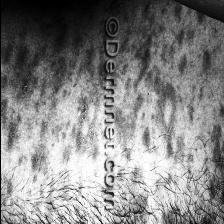Non-Cancerous Skin Condition: (120, 0, 224, 205), (0, 0, 98, 207)
